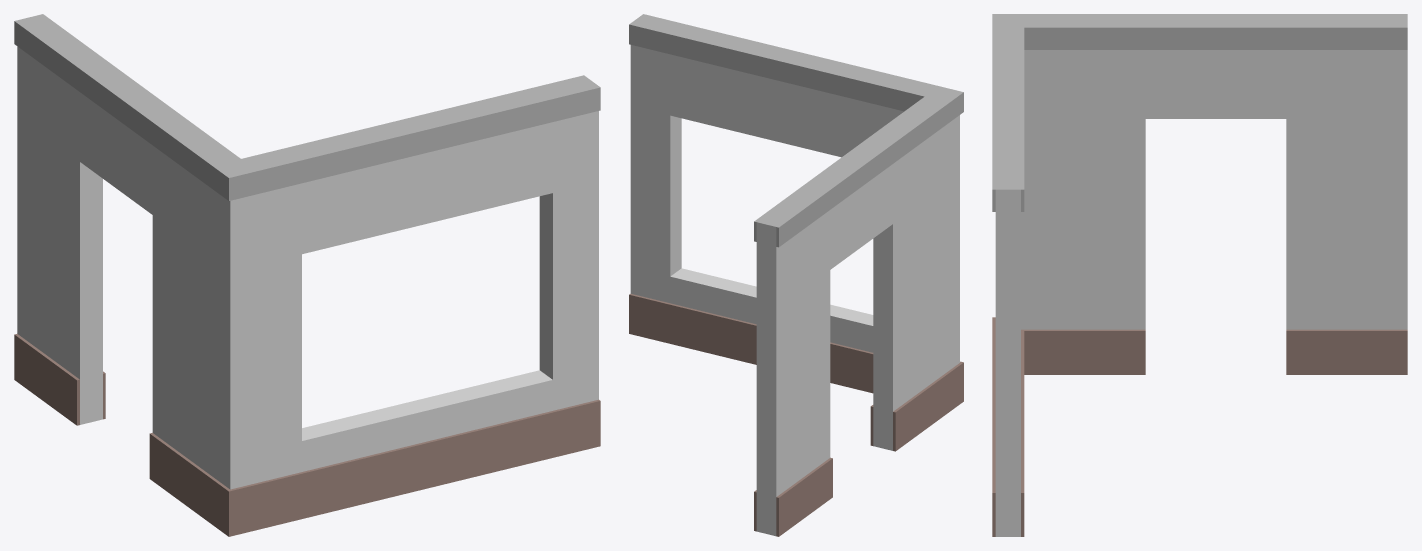
File: Wall05-02.fbx
3 views of the same model, side by side, from view 1: azimuth 30°, elevation 25°; view 2: azimuth 150°, elevation 25°; view 3: azimuth 270°, elevation 25° (orthographic). The views are drawn at different scales.
Visible parts, largest first — view 1: Wall05-02; view 2: Wall05-02; view 3: Wall05-02.
Boxes of the visible parts, left/top/right/bottom form: Wall05-02: left=14, top=14, right=600, bottom=536; Wall05-02: left=629, top=14, right=963, bottom=536; Wall05-02: left=992, top=14, right=1407, bottom=536.
Size of the model in its own units: 3.25 by 3.25 by 3.
